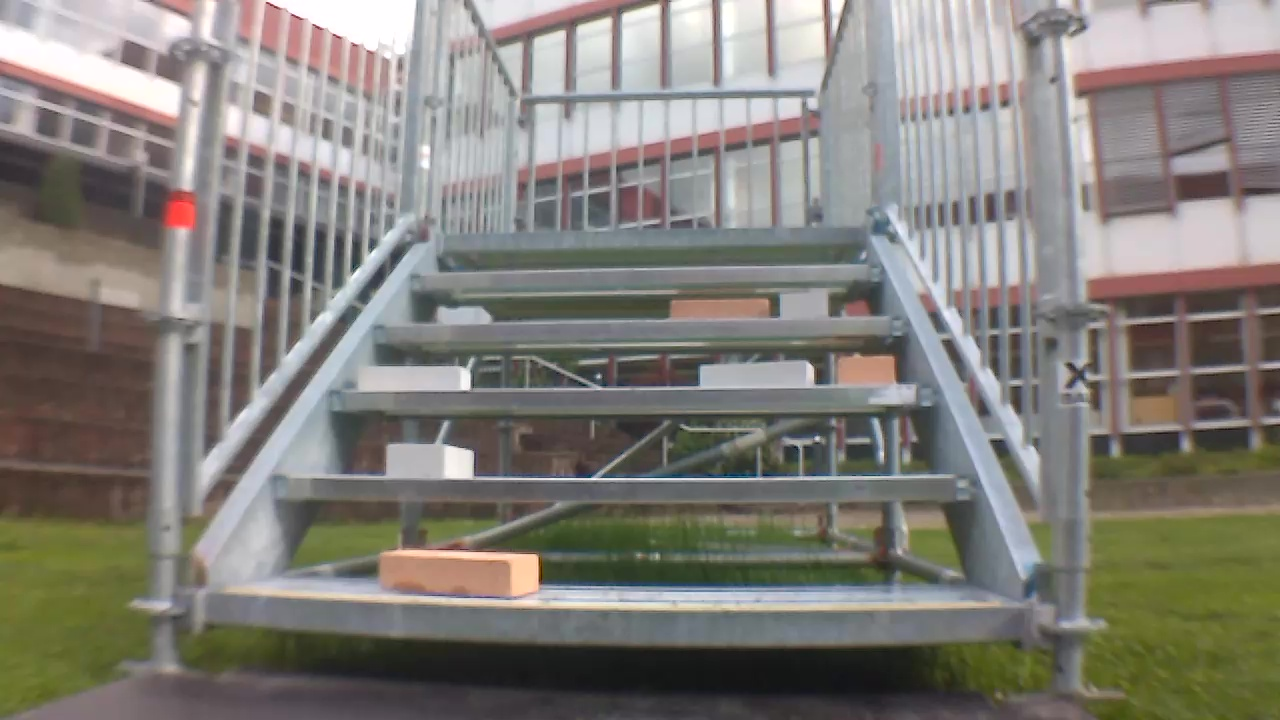brick: (380, 551, 536, 598), (388, 444, 473, 479), (700, 361, 812, 385), (359, 367, 470, 391), (671, 299, 770, 318), (838, 355, 895, 385), (780, 293, 827, 318)
edge: (208, 592, 1031, 643), (268, 474, 978, 500), (329, 385, 938, 411), (374, 316, 916, 342), (412, 265, 880, 289), (437, 225, 865, 249)
stairs: (145, 2, 1120, 700)
steps: (206, 217, 1036, 665)
